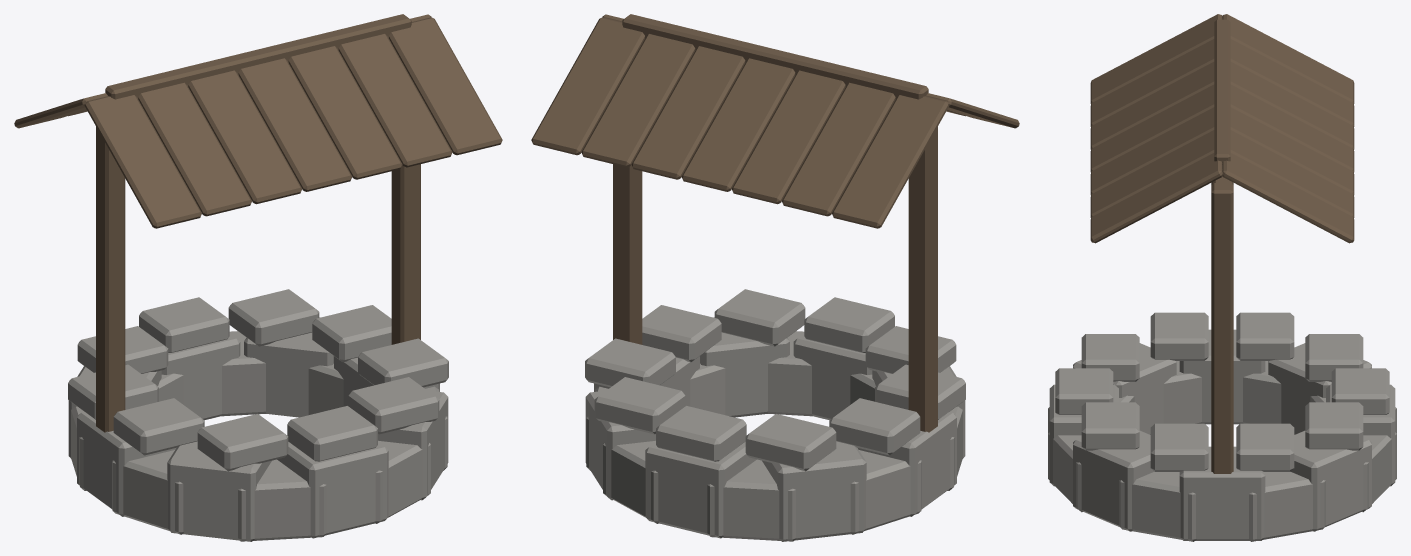
The model's file is courtyard_well.glb.
The picture shows the model from 3 angles, left to right: view 1: azimuth 30°, elevation 25°; view 2: azimuth 150°, elevation 25°; view 3: azimuth 270°, elevation 25°; orthographic projection. The views are drawn at different scales.
Visible parts, largest first — view 1: WellStone_0, WellPost_-1; view 2: WellStone_0, WellPost_-1; view 3: WellStone_0, WellPost_-1.
Part boxes in pixels (x1,y1,x2,y2): WellStone_0: (68,289,448,541); WellPost_-1: (14,14,502,432); WellStone_0: (585,289,965,541); WellPost_-1: (531,14,1019,432); WellStone_0: (1048,312,1396,541); WellPost_-1: (1090,14,1354,473).
Size of the model in its own units: 2.72 by 3.06 by 2.52.
